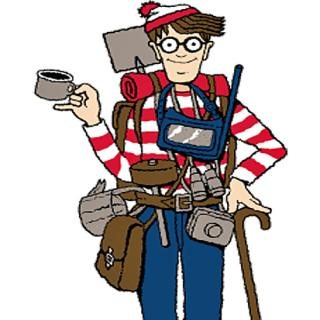Waldo: (135, 0, 228, 87)
